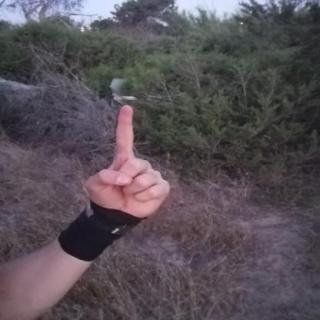BAA: (75, 100, 177, 225)
